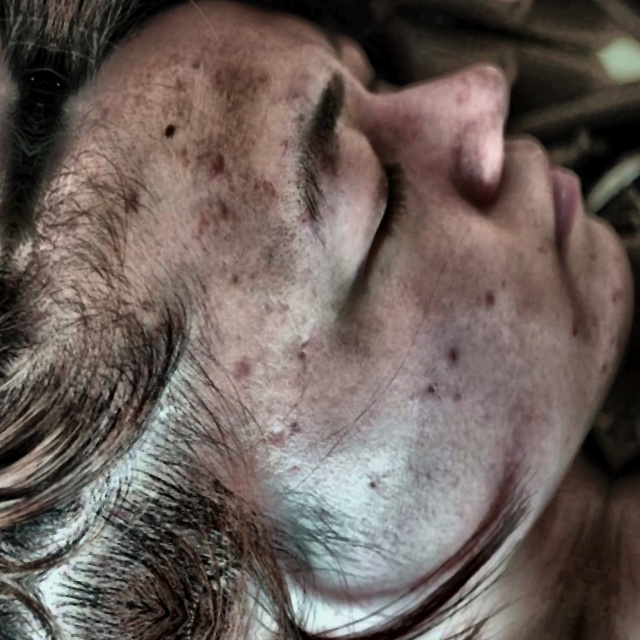comedone: (227, 339, 272, 402), (200, 142, 234, 183), (435, 342, 468, 381)
